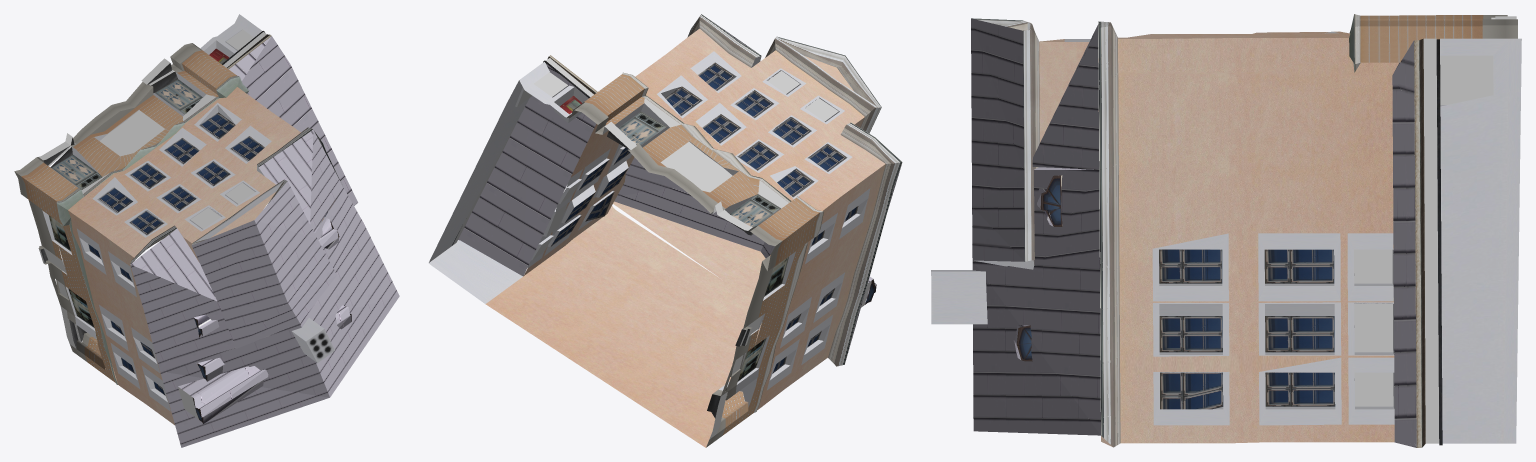
The model's file is Pikk_14-origo.obj.
3 views of the same model, side by side, from view 1: azimuth 30°, elevation 25°; view 2: azimuth 150°, elevation 25°; view 3: azimuth 270°, elevation 25° (orthographic). The views are drawn at different scales.
Visible parts, largest first — view 1: mesh01; view 2: mesh01; view 3: mesh01.
Part boxes in pixels (<box>): mesh01: <box>14,14,399,447</box>; mesh01: <box>428,14,902,447</box>; mesh01: <box>931,14,1521,447</box>.
Bounding box in the file's own units: 20.38 × 18.5 × 18.51.
